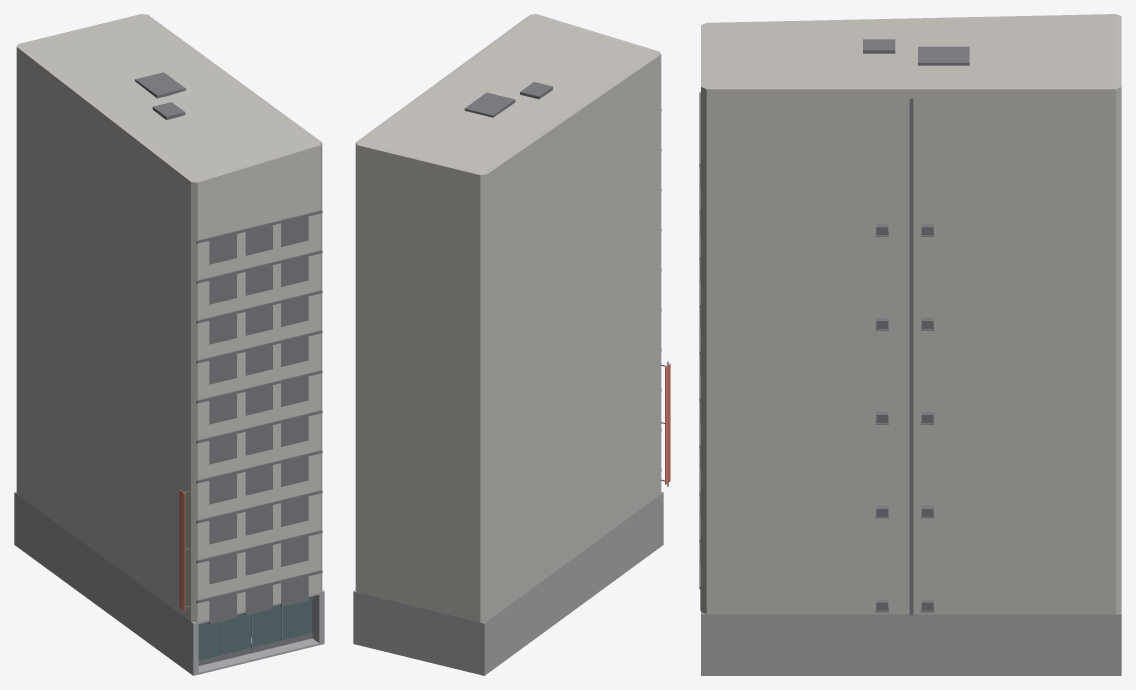
The model's file is pencil_building_d.glb.
3 renders of one model, left to right at view 1: azimuth 30°, elevation 25°; view 2: azimuth 150°, elevation 25°; view 3: azimuth 270°, elevation 25°, orthographic. The views are drawn at different scales.
Visible parts, largest first — view 1: pencil_building_d; view 2: pencil_building_d; view 3: pencil_building_d.
Boxes of the visible parts, left/top/right/bottom form: pencil_building_d: left=14, top=14, right=324, bottom=675; pencil_building_d: left=353, top=14, right=670, bottom=675; pencil_building_d: left=699, top=14, right=1121, bottom=675.
Bounding box in the file's own units: 12.28 × 40 × 26.11.
